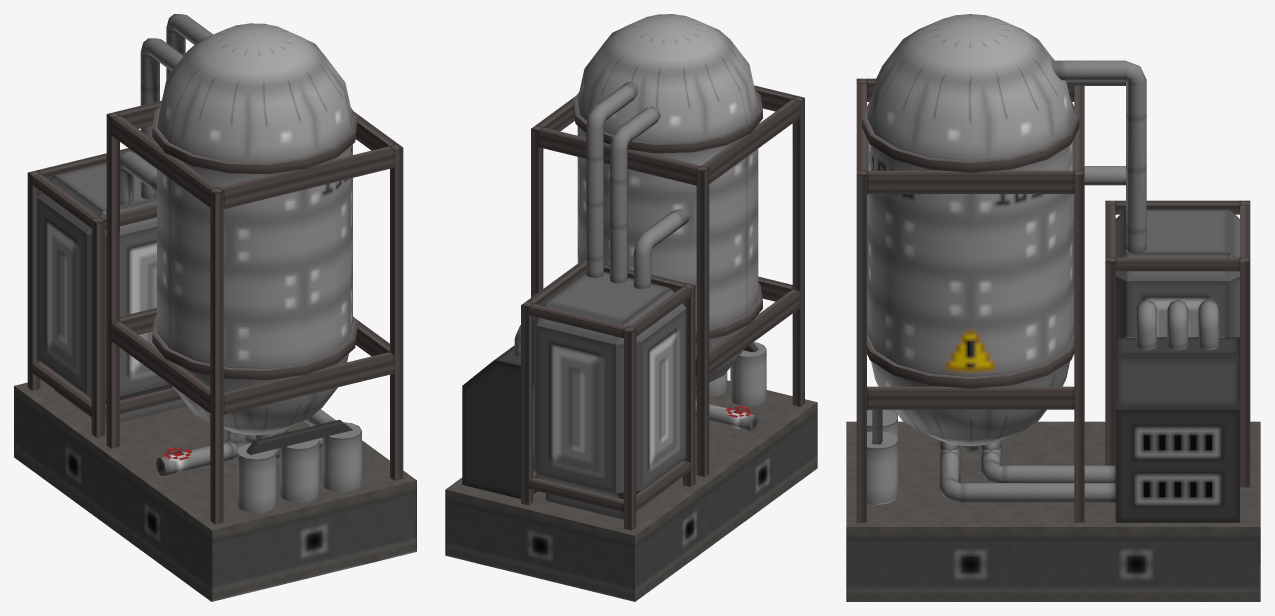
Rendered from catalytic_reformer.obj.
3 renders of one model, left to right at view 1: azimuth 30°, elevation 25°; view 2: azimuth 150°, elevation 25°; view 3: azimuth 270°, elevation 25°, orthographic. The views are drawn at different scales.
Parts seen in each view (by area): view 1: Plane; view 2: Plane; view 3: Plane.
Part boxes in pixels (x1,y1,x2,y2): Plane: (14, 14, 416, 601); Plane: (445, 14, 817, 601); Plane: (846, 14, 1260, 601).
Bounding box in the file's own units: 3 × 7 × 5.
